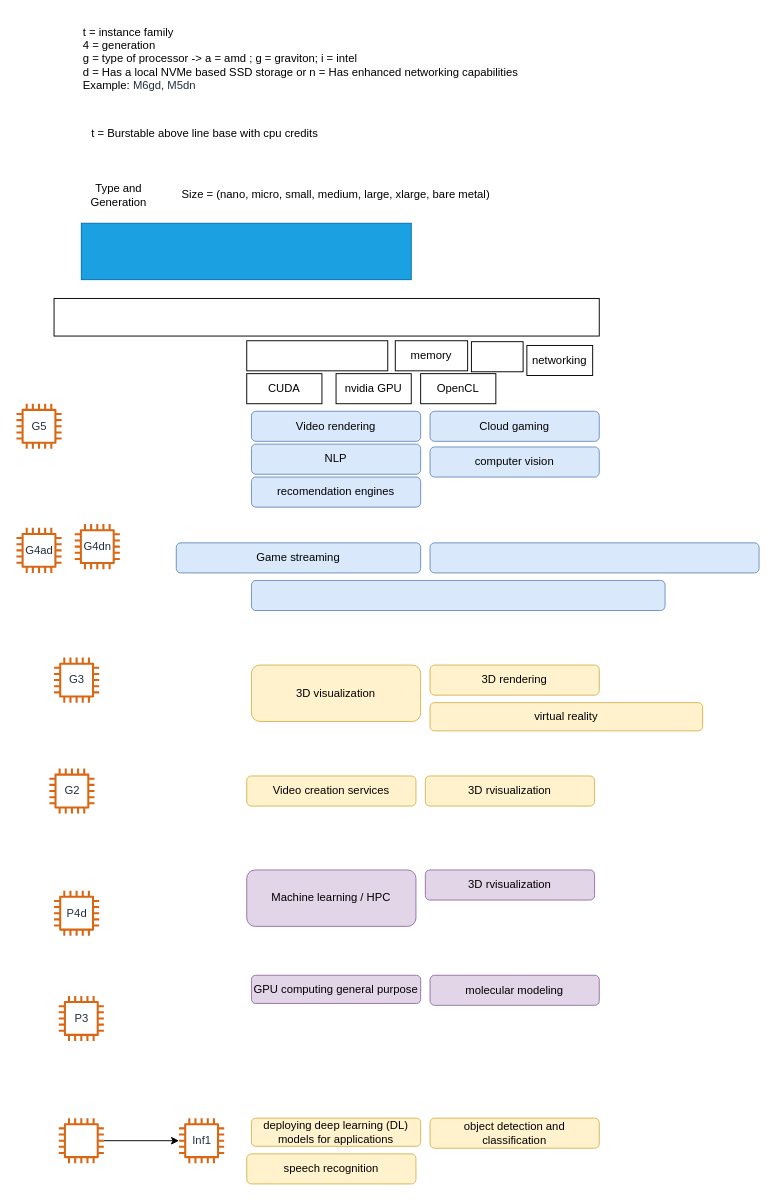
Some shapes in this 776 by 1200 pixel diagram are drawn without their labels. Each missing label, with the box of its shape:
AWS Inferentia: (58, 1118, 103, 1163)
compute (amd, intel, aws graviton: (246, 340, 388, 371)
GPU Optimized / Accelerated computing: (53, 298, 599, 336)
Machine learning inference: (251, 580, 665, 611)
Radeon /Tesla: (429, 542, 759, 573)
storage: (470, 341, 523, 372)
t 4 g . micro (Storage-Optimized): (80, 222, 411, 280)
